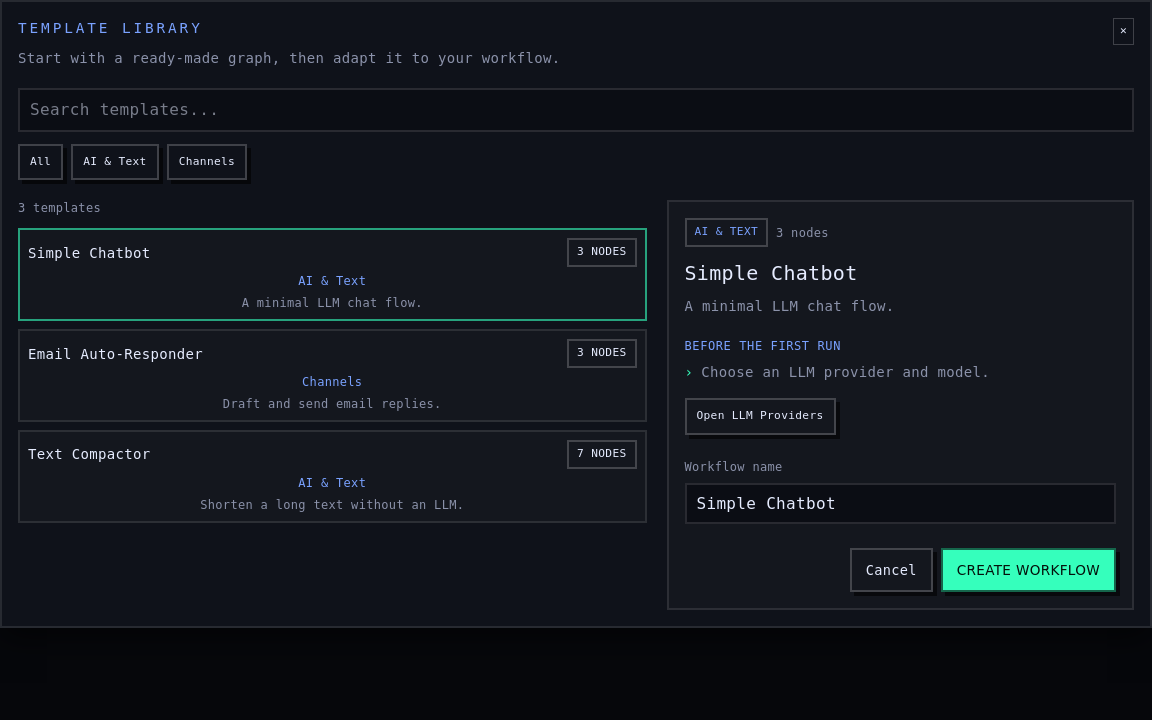
NewFromTemplateDialog › searches setup metadata and identifies templates ready to run
In the search field labelled "Search templates": (576, 110) top-left (18, 88), bottom-right (1134, 132), type "without an llm"
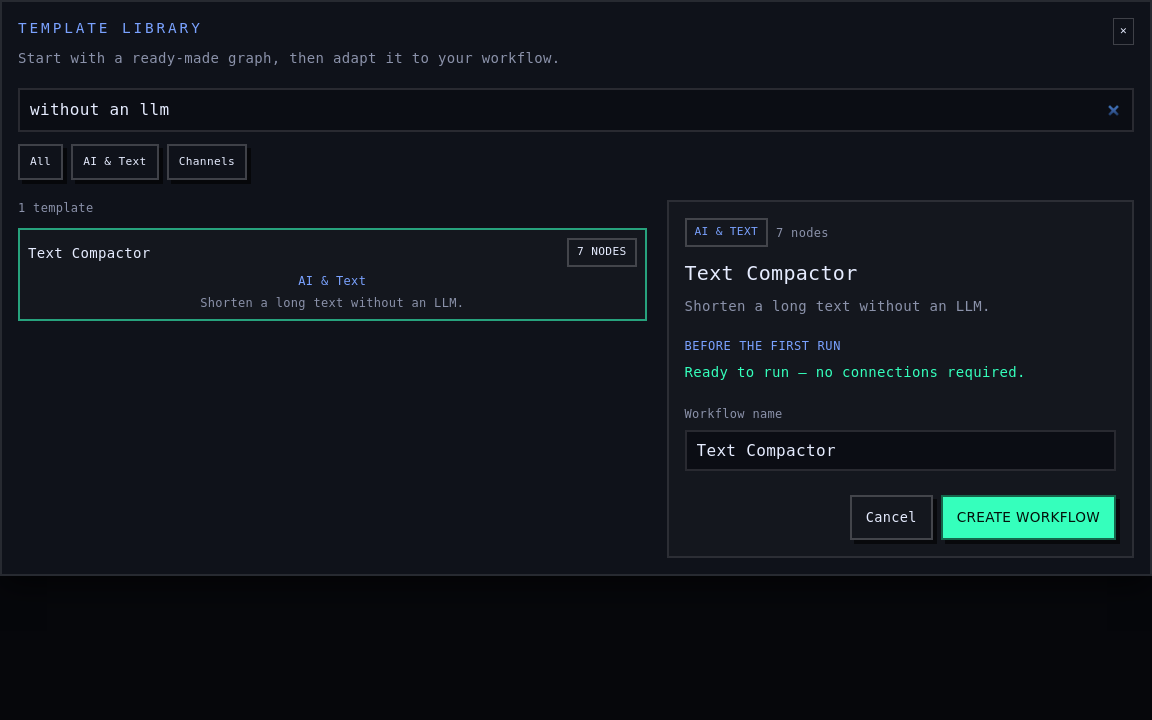
Check: the button "Text Compactor" is shown, box top-left (18, 228), bottom-right (646, 321)
Check: the text "Ready to run — no connections required." is shown, box top-left (684, 364), bottom-right (1026, 380)
